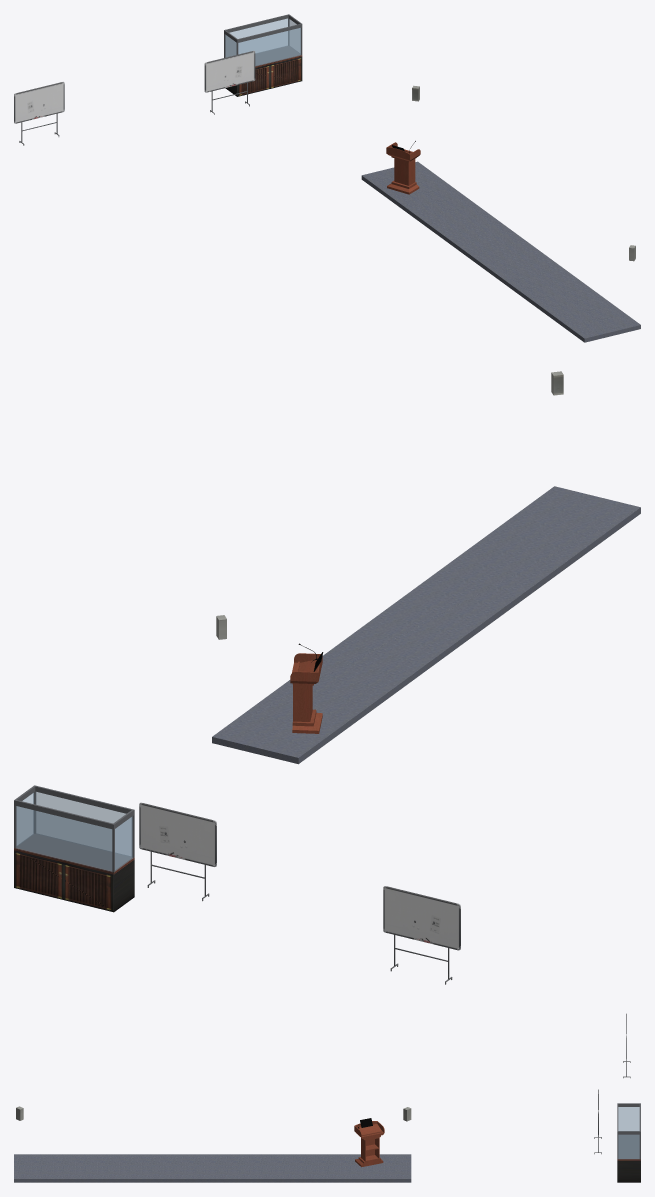
File: meeting room 3.glb
3 views of the same model, one above another, from view 1: azimuth 30°, elevation 25°; view 2: azimuth 150°, elevation 25°; view 3: azimuth 270°, elevation 25° (orthographic). The views are drawn at different scales.
Parts seen in each view (by area): view 1: 立方体.138, 立方体.566, 立方体.557, 立方体.567, 立方体.556, 立方体.284; view 2: 立方体.138, 立方体.557, 立方体.566, 立方体.567, 立方体.556, 立方体.284; view 3: 立方体.138, 立方体.557, 立方体.566, 立方体.284.
Boxes of the visible parts, x1,y1,x2,y2 form: 立方体.138: (361,161,640,342); 立方体.566: (225,18,300,65); 立方体.557: (225,46,302,96); 立方体.567: (204,50,255,114); 立方体.556: (14,81,64,145); 立方体.284: (386,142,420,194); 立方体.138: (212,486,640,764); 立方体.557: (14,834,134,912); 立方体.566: (16,792,132,870); 立方体.567: (139,802,216,901); 立方体.556: (383,886,460,984); 立方体.284: (290,653,322,733); 立方体.138: (14,1154,411,1182); 立方体.557: (617,1135,640,1182); 立方体.566: (618,1107,639,1158); 立方体.284: (354,1121,384,1167).
Bounding box in the file's own units: 3.51 × 0.9615 × 7.56.
Materials: 8 (5 with a texture image).
